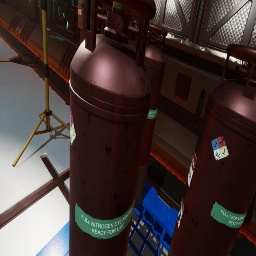EmergencyPhone ,: (37, 0, 40, 7)
NitrogenTank ,: (69, 0, 156, 256), (167, 44, 256, 256), (134, 22, 168, 206), (98, 4, 132, 44)
SafetySwitchPanel ,: (78, 0, 87, 30)
